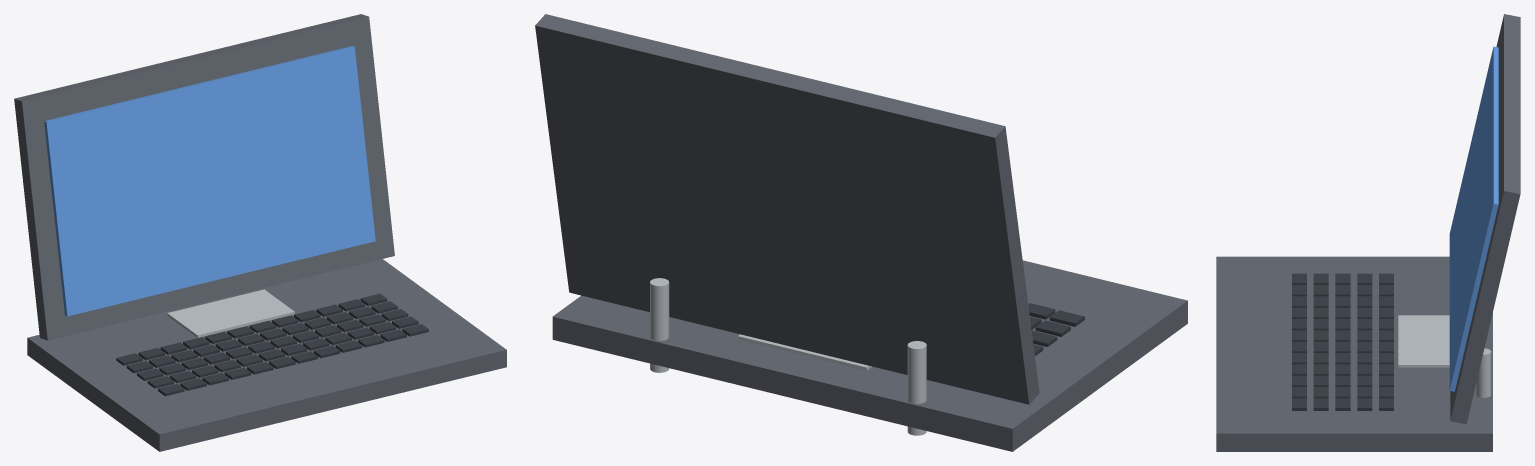
File: asset_keyboard.glb
3 renders of one model, left to right at view 1: azimuth 30°, elevation 25°; view 2: azimuth 150°, elevation 25°; view 3: azimuth 270°, elevation 25°, orthographic. The views are drawn at different scales.
Parts seen in each view (by area): view 1: screen, base, lid, trackpad; view 2: lid, base, hinge_l, hinge_r, trackpad; view 3: base, screen, lid, trackpad, hinge_r.
Boxes of the visible parts, box(x1,y1,x2,y2) form: screen: box(44, 46, 375, 316); base: box(27, 259, 506, 451); lid: box(14, 14, 394, 340); trackpad: box(167, 289, 294, 337); lid: box(535, 14, 1039, 404); base: box(552, 260, 1187, 451); hinge_l: box(907, 341, 926, 435); hinge_r: box(650, 278, 669, 372); trackpad: box(738, 334, 871, 370); base: box(1216, 256, 1492, 451); screen: box(1449, 46, 1498, 391); lid: box(1450, 14, 1520, 424); trackpad: box(1398, 315, 1449, 367); hinge_r: box(1476, 348, 1491, 397).
Bounding box in the file's own units: 2.5 × 1.76 × 1.81.
